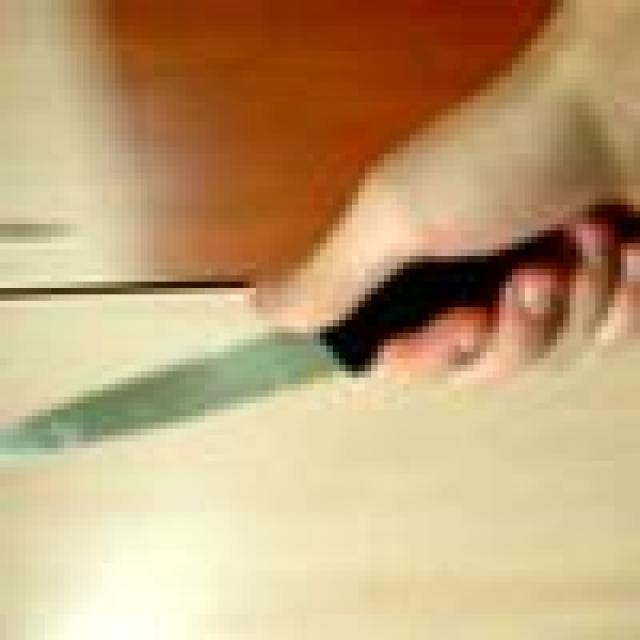knife: (4, 334, 354, 451)
